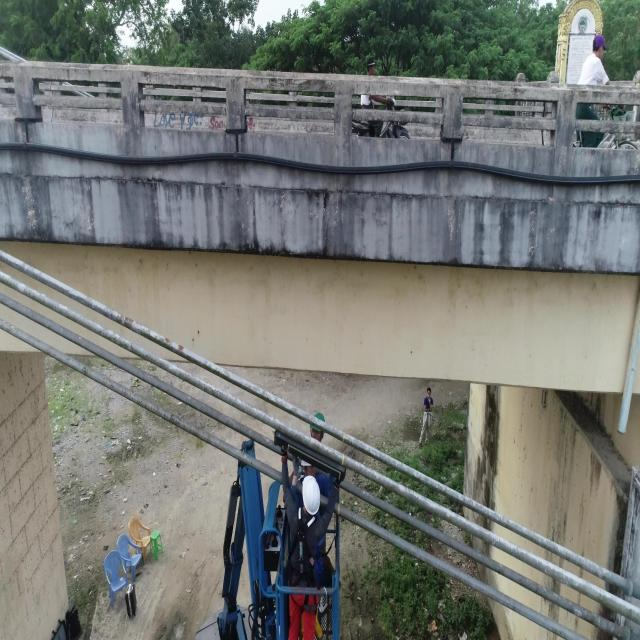corrosion: (124, 318, 132, 330), (117, 314, 124, 325), (164, 337, 171, 345), (178, 345, 184, 352)
